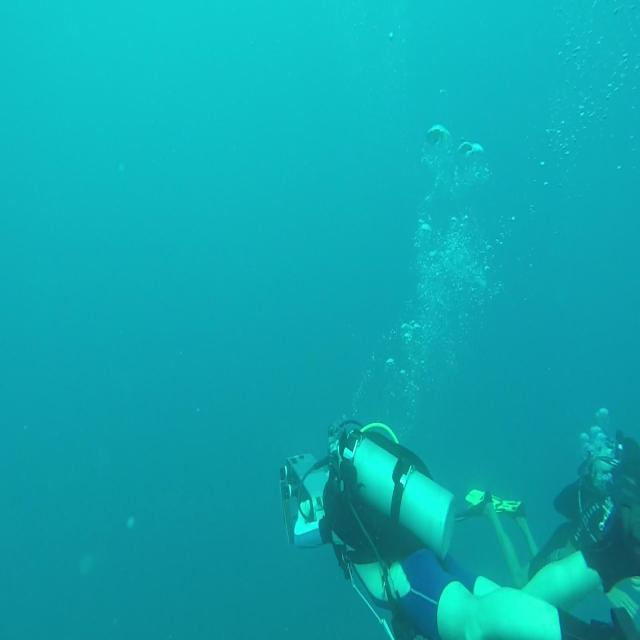human: (280, 416, 638, 638), (454, 424, 640, 574)
